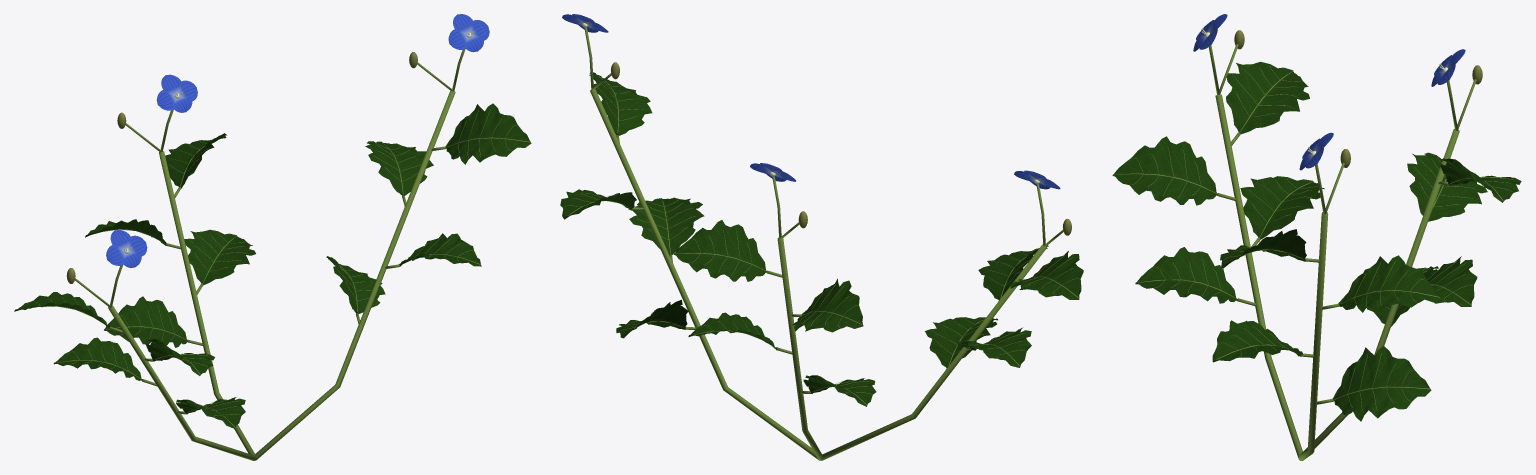
3 renders of one model, left to right at view 1: azimuth 30°, elevation 25°; view 2: azimuth 150°, elevation 25°; view 3: azimuth 270°, elevation 25°, orthographic. The views are drawn at different scales.
Parts seen in each view (by area): view 1: leaves, stems, four_lobed_corollas, leaf_secondary_veins, leaf_midribs; view 2: leaves, stems, leaf_secondary_veins, four_lobed_corollas, leaf_midribs; view 3: leaves, stems, leaf_secondary_veins, four_lobed_corollas, leaf_midribs, buds.
Boxes of the visible parts, box(x1,y1,x2,y2) form: leaves: box(14, 103, 531, 428); stems: box(75, 49, 465, 460); four_lobed_corollas: box(106, 14, 489, 267); leaf_secondary_veins: box(31, 109, 516, 416); leaf_midribs: box(14, 137, 530, 427); leaves: box(560, 72, 1083, 406); stems: box(584, 27, 1063, 460); leaf_secondary_veins: box(564, 74, 1078, 394); four_lobed_corollas: box(562, 14, 1060, 189); leaf_midribs: box(564, 77, 1078, 405); leaves: box(1112, 61, 1521, 421); stems: box(1208, 44, 1476, 460); leaf_secondary_veins: box(1131, 65, 1513, 412); four_lobed_corollas: box(1193, 14, 1465, 170); leaf_midribs: box(1113, 71, 1503, 399); buds: box(1234, 30, 1482, 167).
Size of the model in its own units: 0.1273 by 0.0956 by 0.0785.
7 materials, 2 textured.
